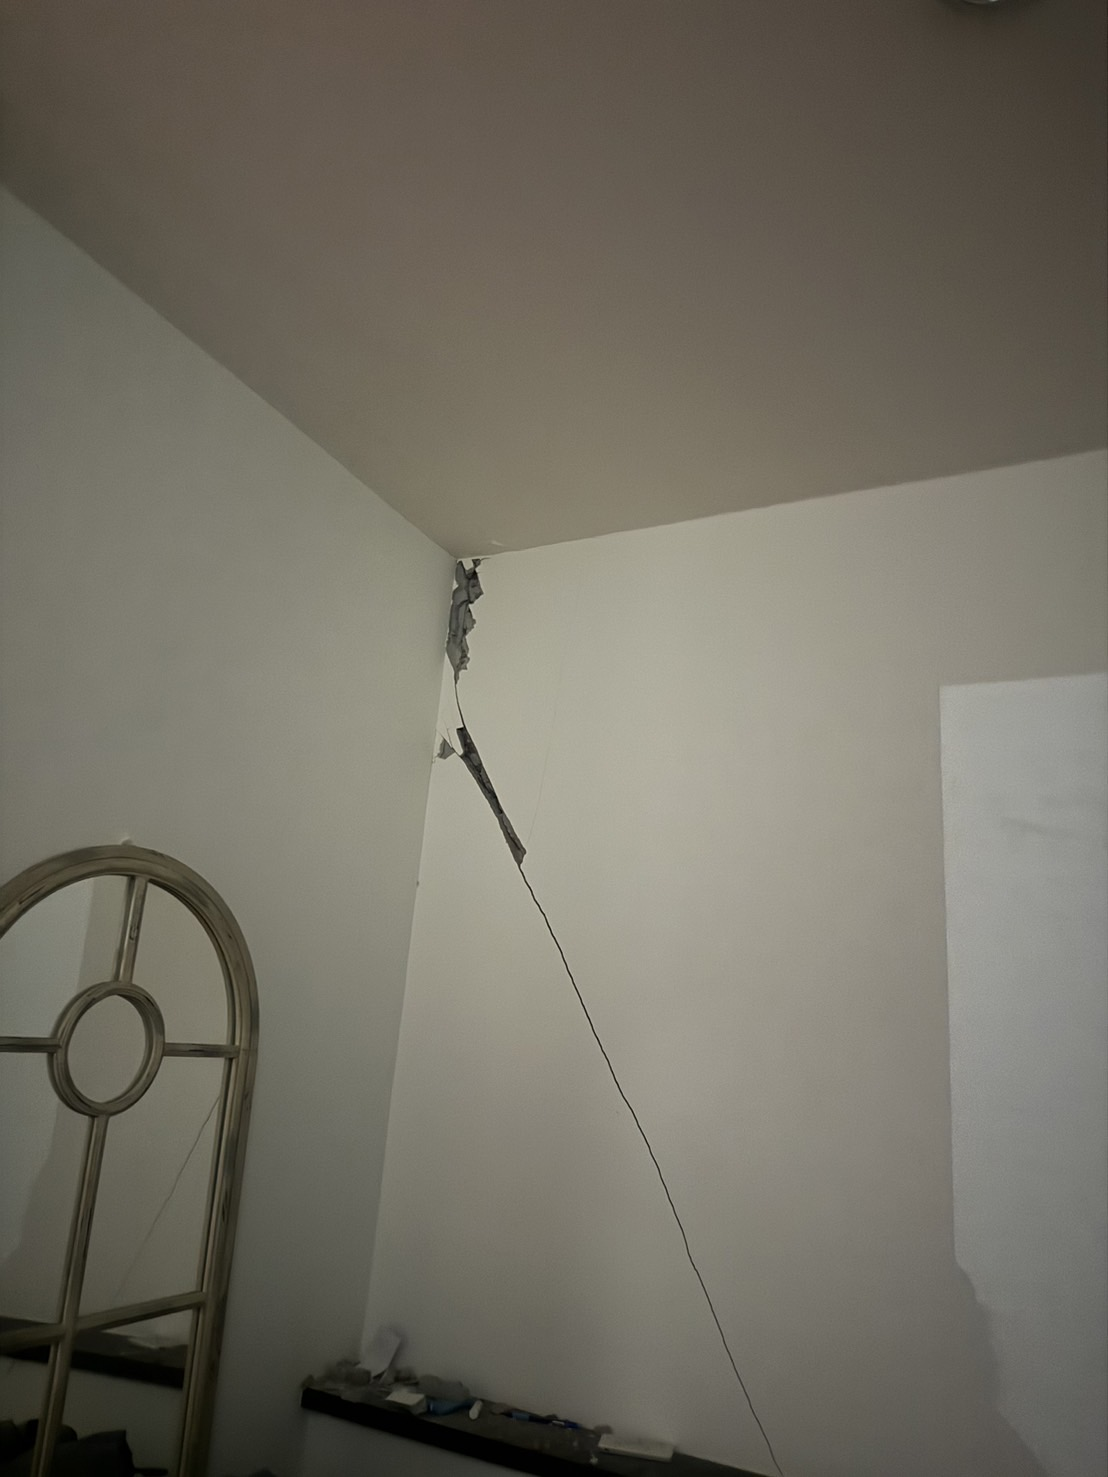High: (424, 553, 819, 1477)
